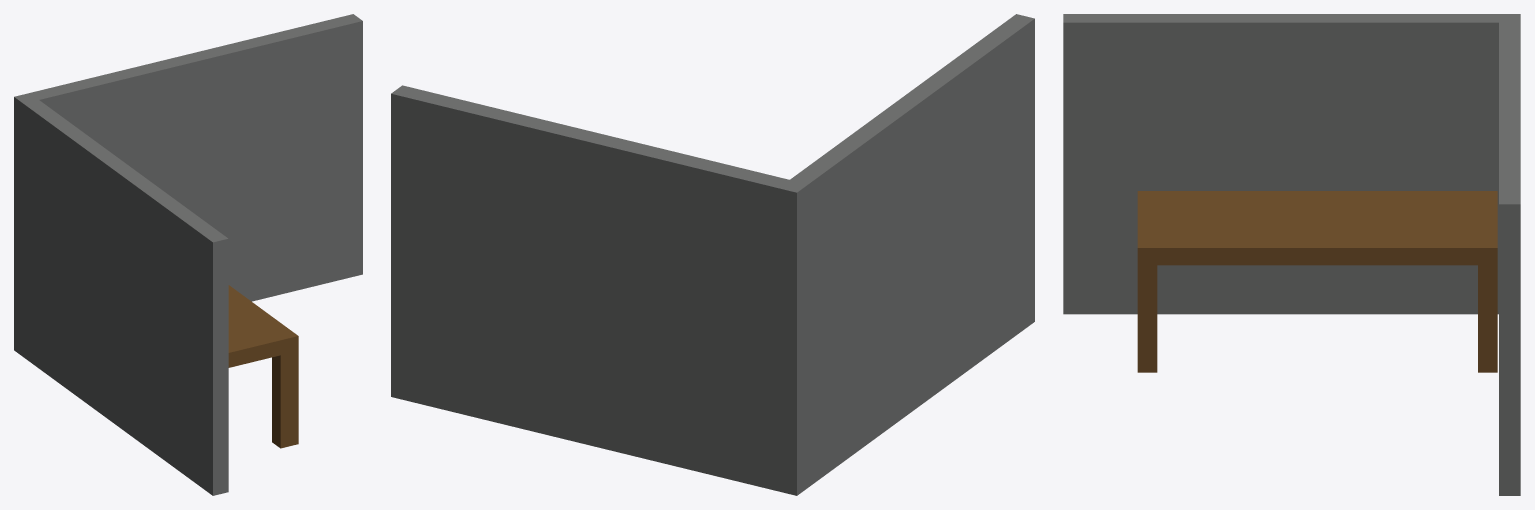
The model's file is desk with divider.fbx.
3 views of the same model, side by side, from view 1: azimuth 30°, elevation 25°; view 2: azimuth 150°, elevation 25°; view 3: azimuth 270°, elevation 25° (orthographic). The views are drawn at different scales.
Visible parts, largest first — view 1: MY TDESK.005; view 2: MY TDESK.005; view 3: MY TDESK.005.
Part boxes in pixels (box(x1,y1,x2,y2)): MY TDESK.005: box(14, 14, 362, 495); MY TDESK.005: box(391, 14, 1034, 495); MY TDESK.005: box(1063, 14, 1520, 495).
Size of the model in its own units: 431 by 308 by 437.
